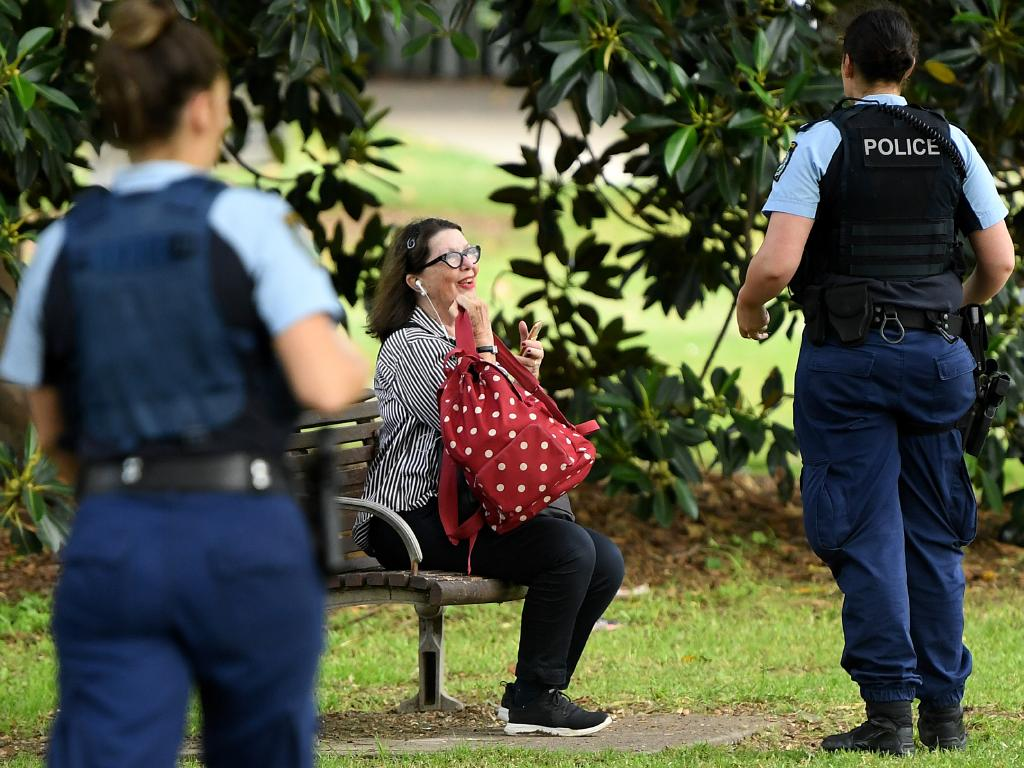Person: (3, 1, 366, 768), (737, 10, 1014, 751), (354, 217, 627, 735)
